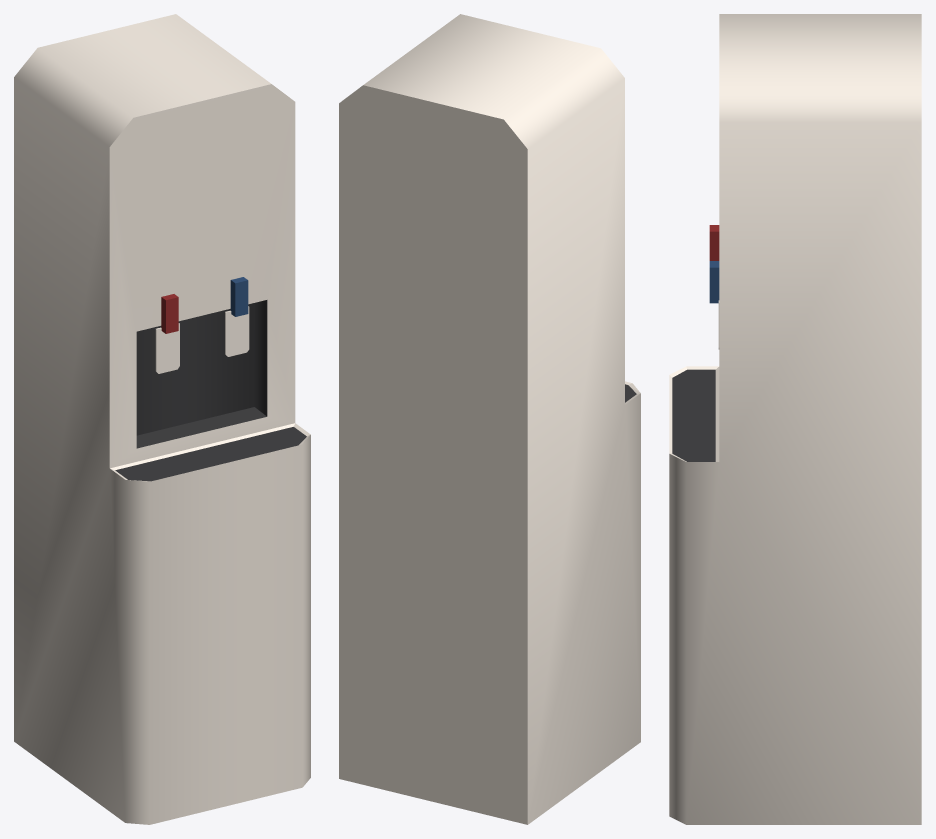
Rendered from water purifier.FBX.
3 renders of one model, left to right at view 1: azimuth 30°, elevation 25°; view 2: azimuth 150°, elevation 25°; view 3: azimuth 270°, elevation 25°, orthographic. The views are drawn at different scales.
Visible parts, largest first — view 1: water purifier; view 2: water purifier; view 3: water purifier.
Boxes of the visible parts, bbox=[...] form: water purifier: bbox=[14, 14, 310, 824]; water purifier: bbox=[339, 14, 640, 824]; water purifier: bbox=[669, 14, 921, 824].
Bounding box in the file's own units: 48.63 × 172 × 54.15.
1 material, 1 textured.
